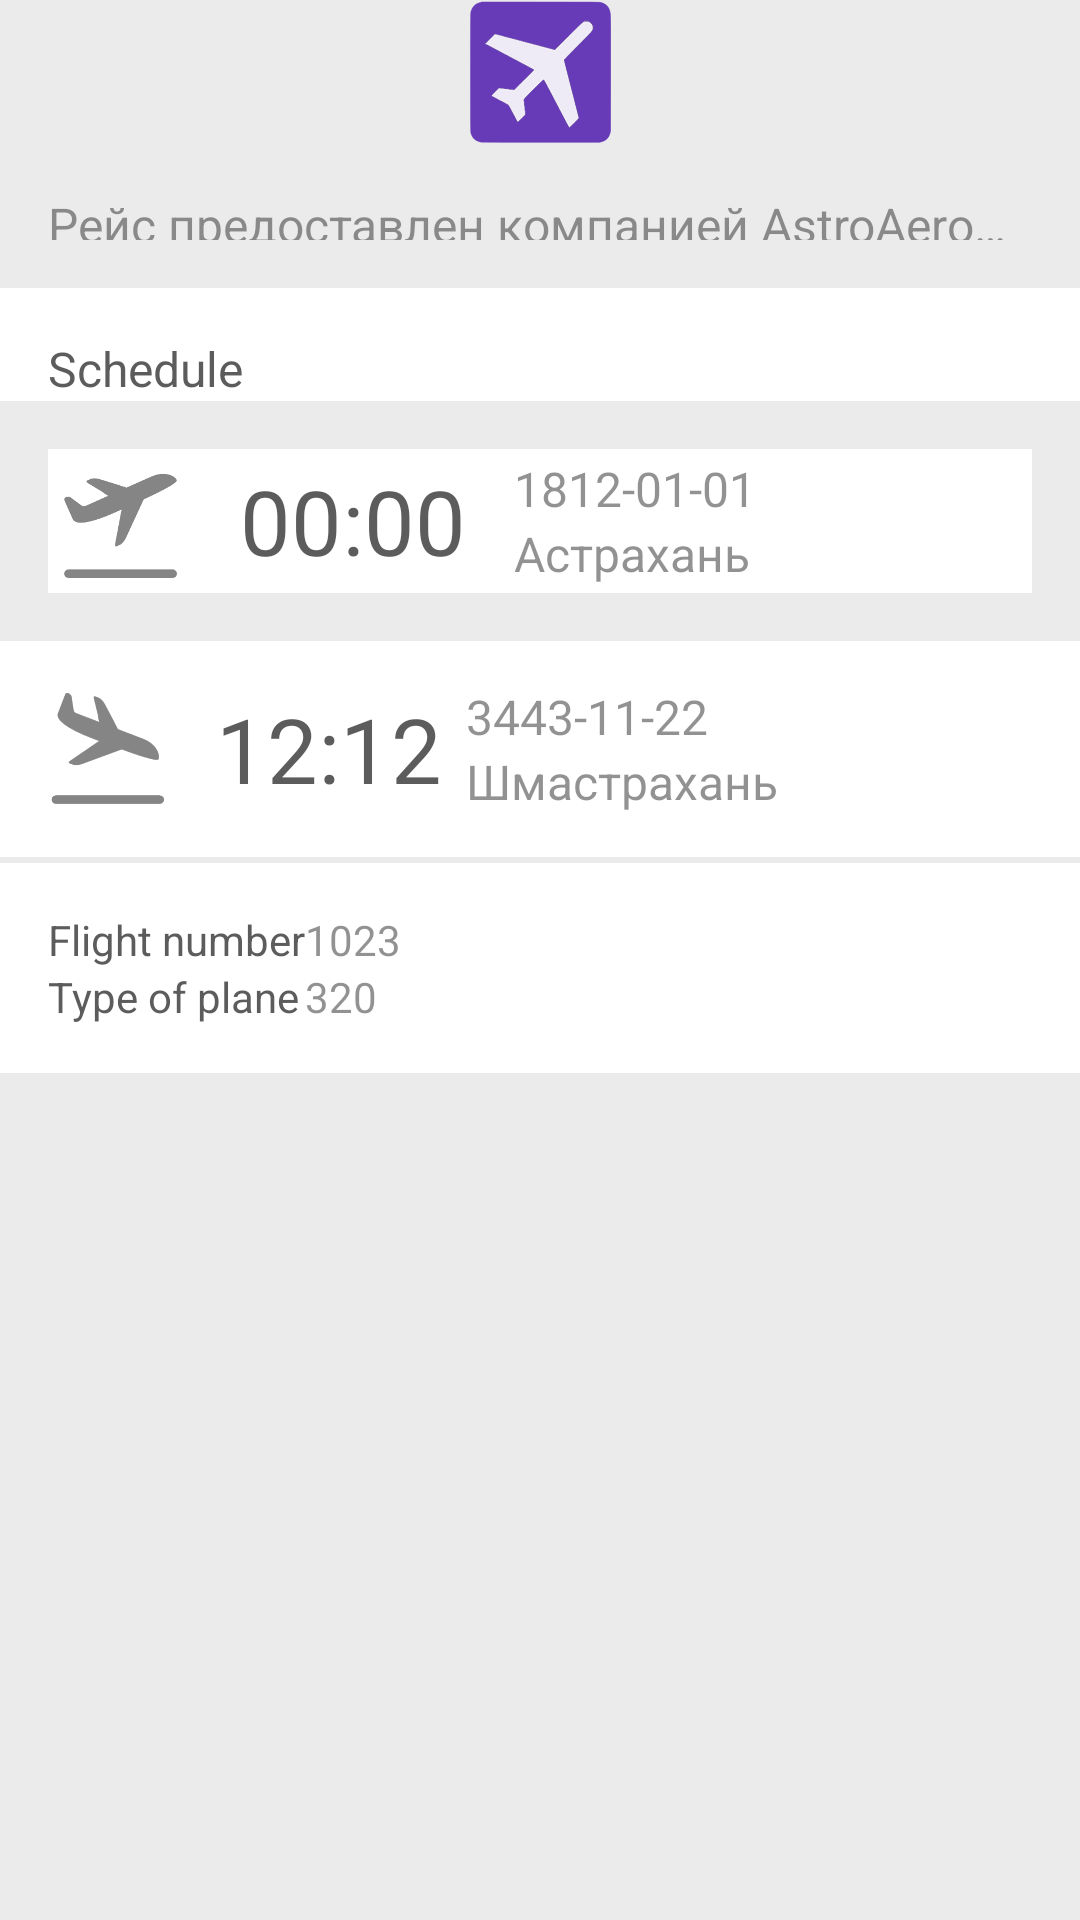

Icon click points for this 1080 x 1920 phone screenshot, format (x,y):
landing: (107,748)
takeoff: (120,521)
